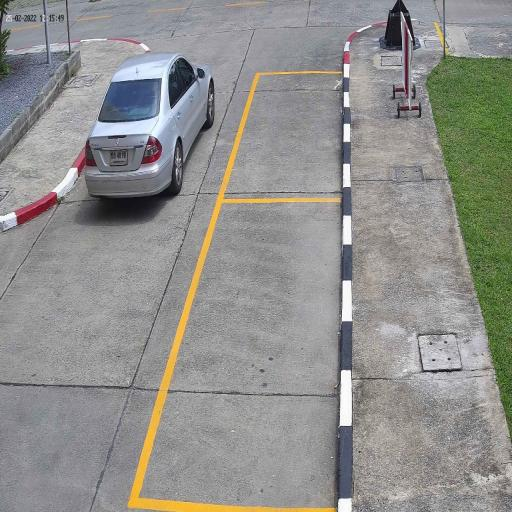car: (84, 51, 216, 204)
